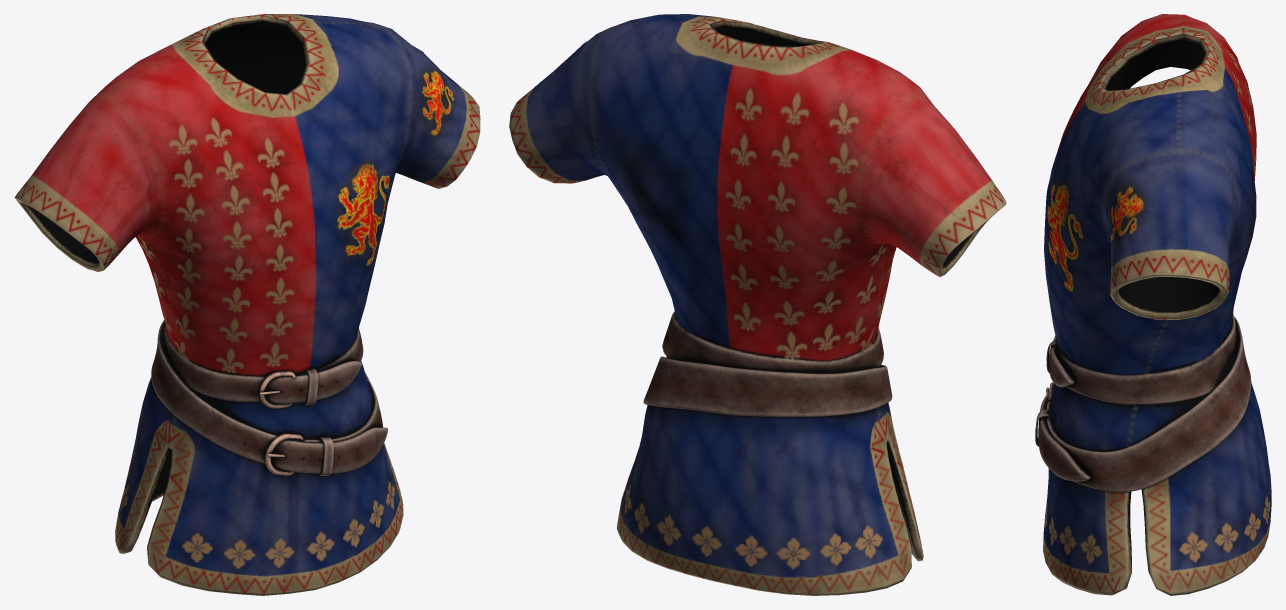
Rendered from tunic_medieval_for_animation.glb.
The picture shows the model from 3 angles, left to right: view 1: azimuth 30°, elevation 25°; view 2: azimuth 150°, elevation 25°; view 3: azimuth 270°, elevation 25°; orthographic projection. The views are drawn at different scales.
Parts seen in each view (by area): view 1: Tunic; view 2: Tunic; view 3: Tunic.
Boxes of the visible parts, box(x1,y1,x2,y2) form: Tunic: box(14, 14, 480, 595); Tunic: box(509, 14, 1006, 595); Tunic: box(1035, 14, 1271, 595).
Size of the model in its own units: 83.93 by 92.35 by 39.3.
1 material, 1 textured.
